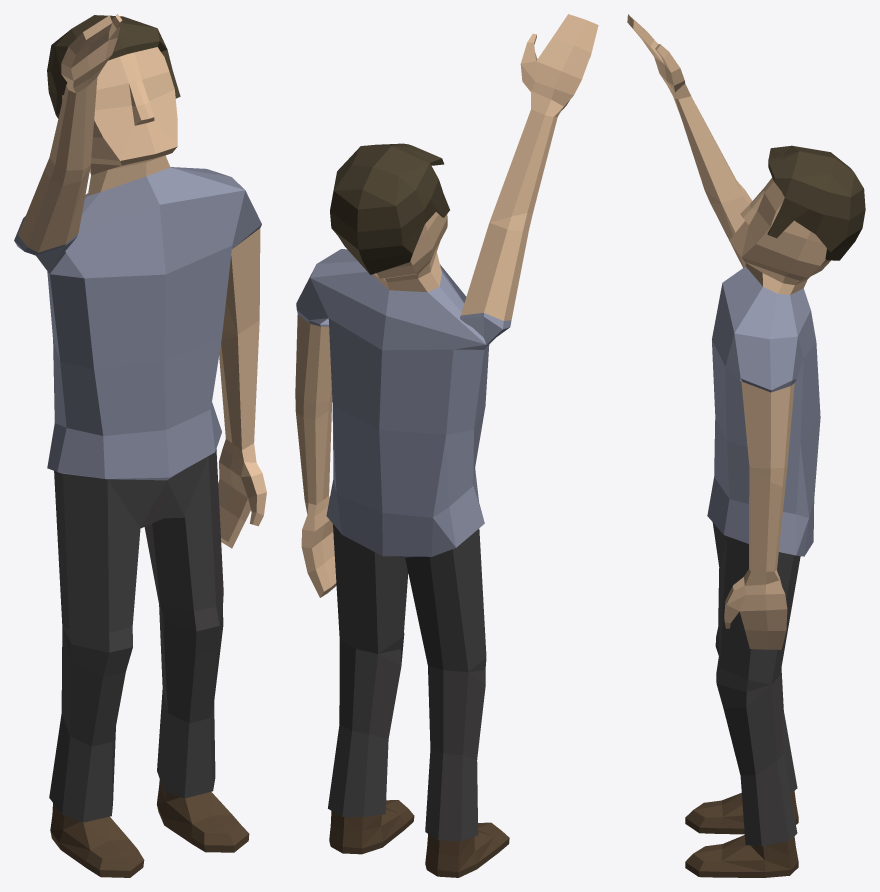
Rendered from Male_Crowd_PointingUp.glb.
3 renders of one model, left to right at view 1: azimuth 30°, elevation 25°; view 2: azimuth 150°, elevation 25°; view 3: azimuth 270°, elevation 25°, orthographic. The views are drawn at different scales.
Parts seen in each view (by area): view 1: Male_Crowd_PointingUp; view 2: Male_Crowd_PointingUp; view 3: Male_Crowd_PointingUp.
Boxes of the visible parts, x1=… form: Male_Crowd_PointingUp: x1=14, y1=14, x2=266, y2=877; Male_Crowd_PointingUp: x1=295, y1=14, x2=598, y2=877; Male_Crowd_PointingUp: x1=627, y1=14, x2=865, y2=877.
Bounding box in the file's own units: 0.5998 × 2.01 × 0.5551.
